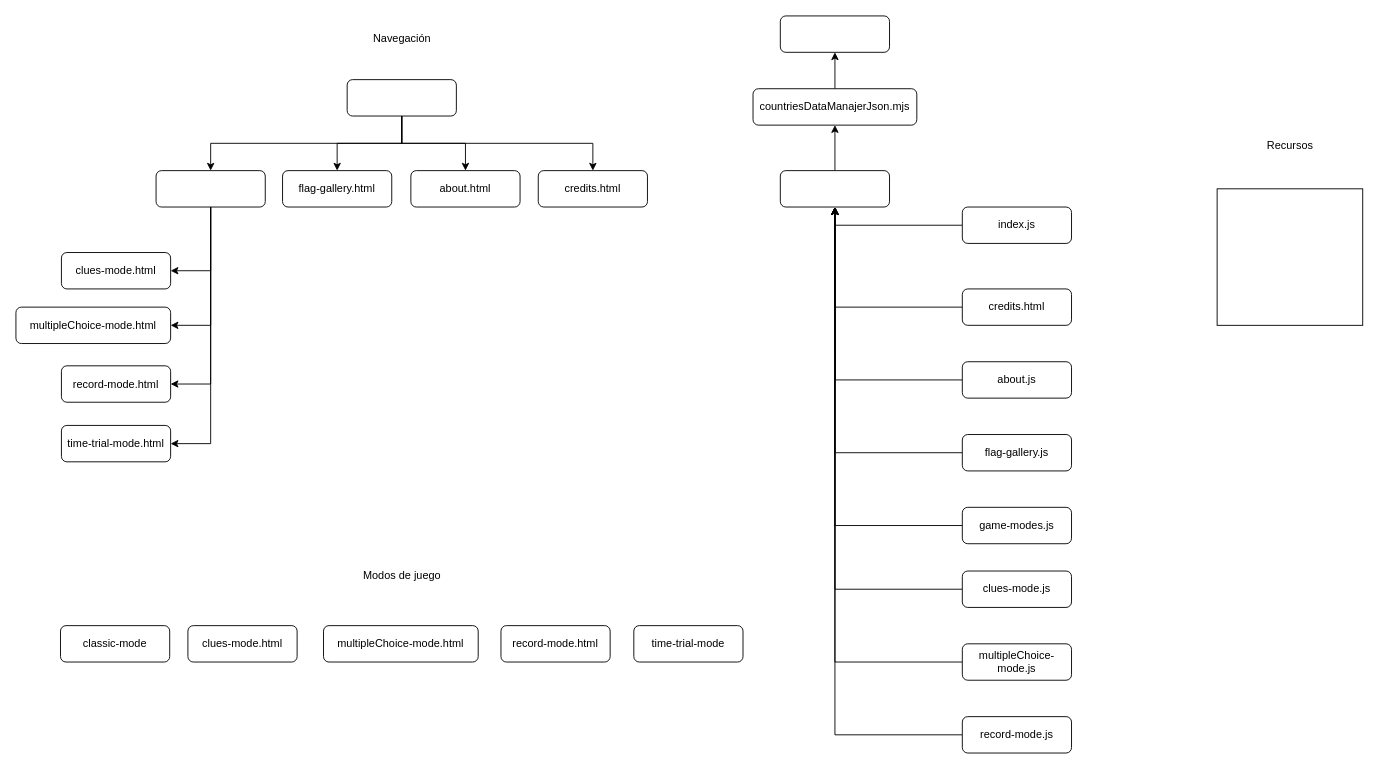
Image size: 1379x769. Some labels were removed from this diagram. The centre of each missing label's shape, as x and y in pixels:
classNewGame .mjs: (x=834, y=188)
countries.json: (x=834, y=33)
game-modes.html: (x=210, y=188)
Index.html: (x=401, y=97)
